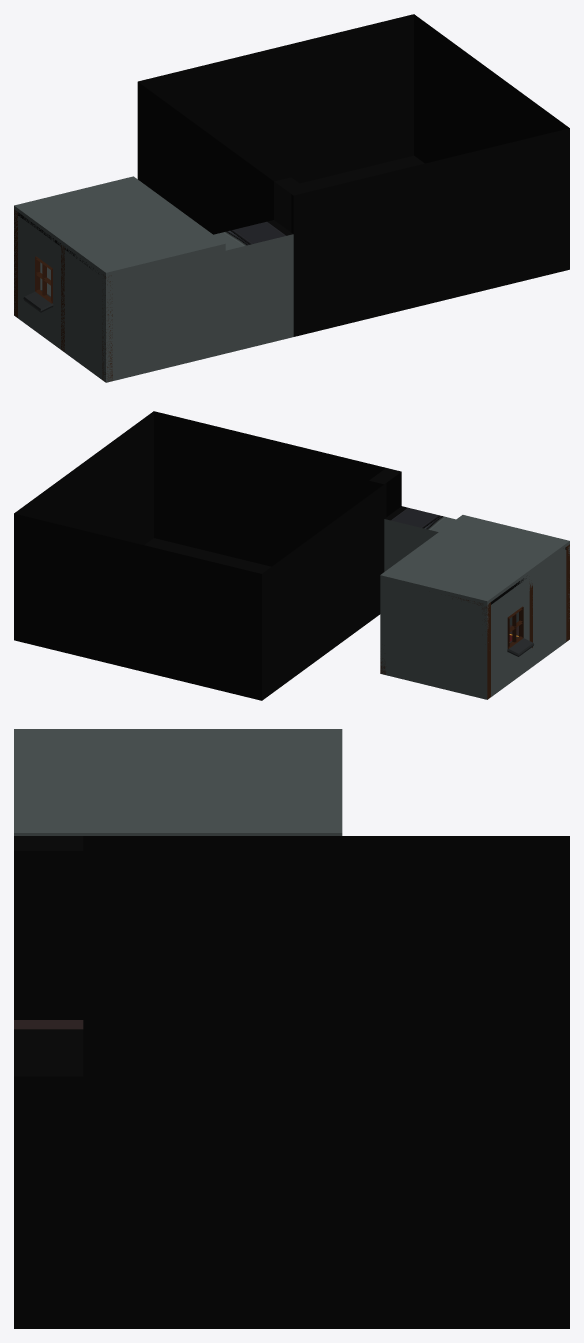
File: map_interieur.fbx
The picture shows the model from 3 angles, top to bottom: view 1: azimuth 30°, elevation 25°; view 2: azimuth 150°, elevation 25°; view 3: azimuth 270°, elevation 25°; orthographic projection. The views are drawn at different scales.
Parts seen in each view (by area): view 1: Plane, poutre, Fenetre; view 2: Plane, poutre, Fenetre; view 3: Plane.
Boxes of the visible parts, bbox=[...] form: Plane: bbox=[14, 14, 569, 382]; poutre: bbox=[14, 209, 112, 381]; Fenetre: bbox=[23, 256, 53, 312]; Plane: bbox=[14, 411, 569, 700]; poutre: bbox=[380, 544, 569, 699]; Fenetre: bbox=[507, 606, 533, 656]; Plane: bbox=[14, 729, 569, 1328].
Bounding box in the file's own units: 59276 × 16810 × 33581.
